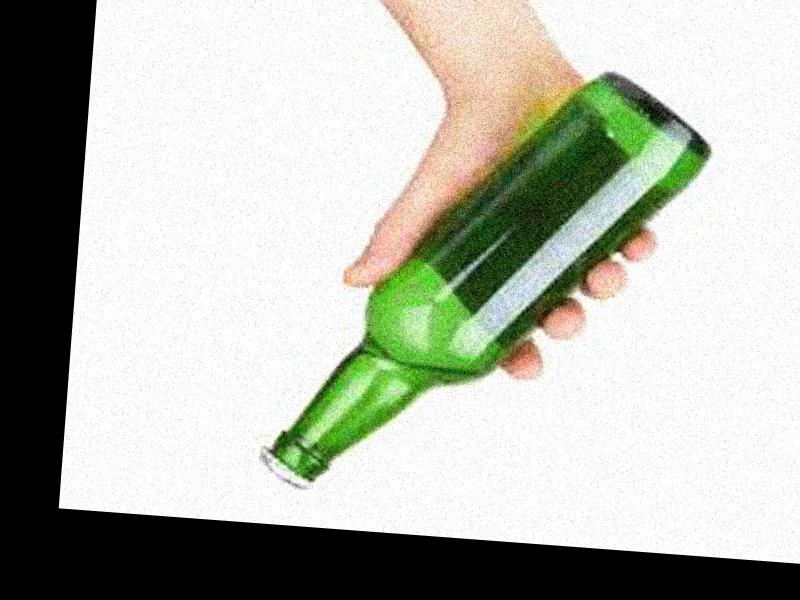Beer: (257, 40, 712, 511)
